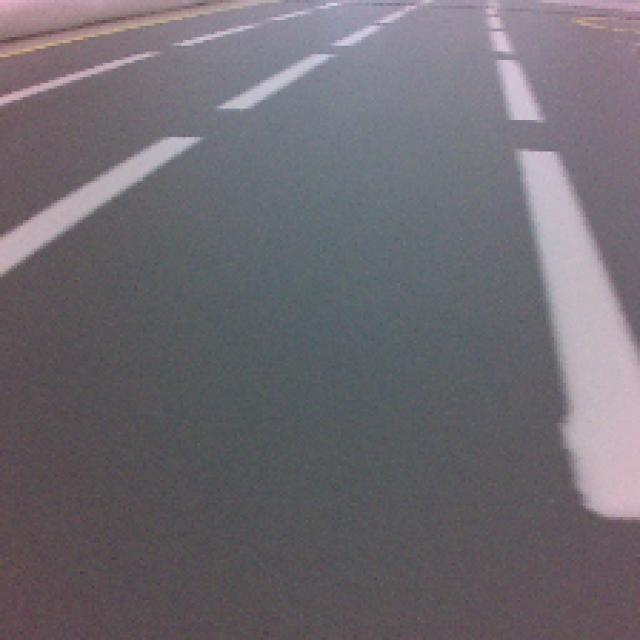Road: (0, 214, 598, 640)
